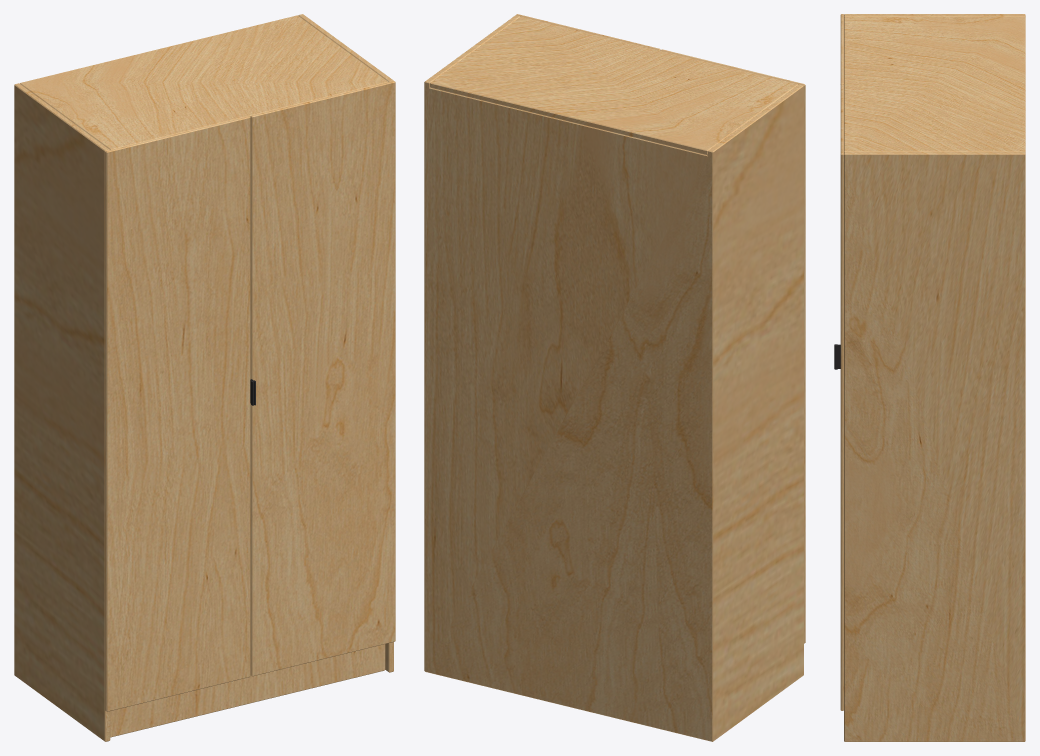
File: Closet_light.gltf
3 views of the same model, side by side, from view 1: azimuth 30°, elevation 25°; view 2: azimuth 150°, elevation 25°; view 3: azimuth 270°, elevation 25° (orthographic).
Parts seen in each view (by area): view 1: Closet; view 2: Closet; view 3: Closet.
Boxes of the visible parts, x1,y1,x2,y2 form: Closet: (14, 14, 395, 741); Closet: (424, 14, 805, 741); Closet: (840, 14, 1025, 741).
Size of the model in its own units: 0.9897 by 1.97 by 0.5689.
Materials: 2 (1 with a texture image).
